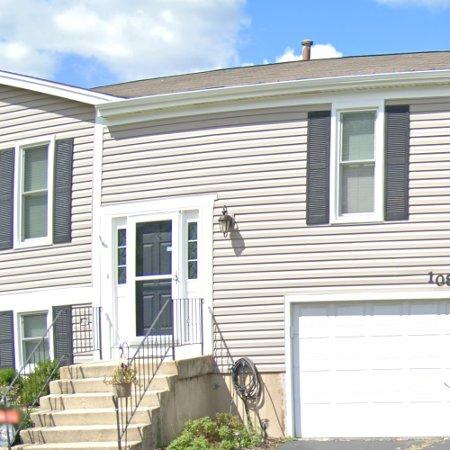stairs: (119, 300, 236, 450), (12, 364, 117, 450)
